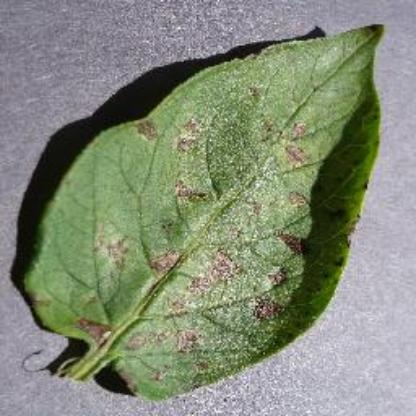Early-Blight: (21, 18, 397, 402)
